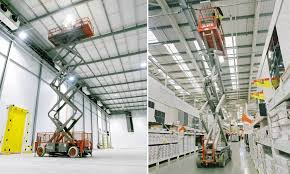Scissor Lift: (33, 16, 95, 159), (195, 3, 232, 169)
